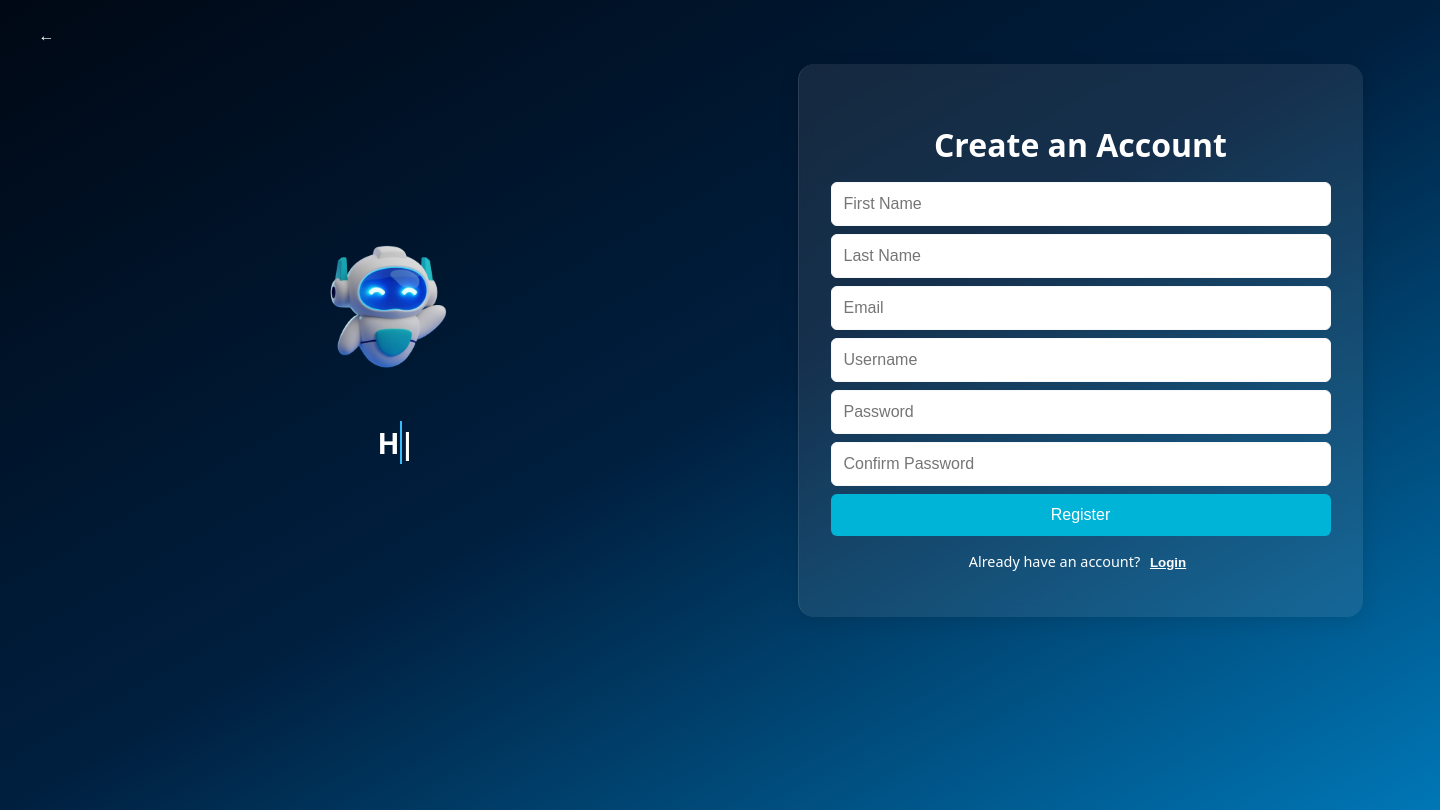
Test: RegisterPage › shows error if passwords do not match
Type "John" into the field with placeholder "First Name". click: (1080, 204)
box: [830,182,1330,226]
Type "Doe" into the field with placeholder "Last Name". click: (1080, 256)
box: [830,234,1330,278]
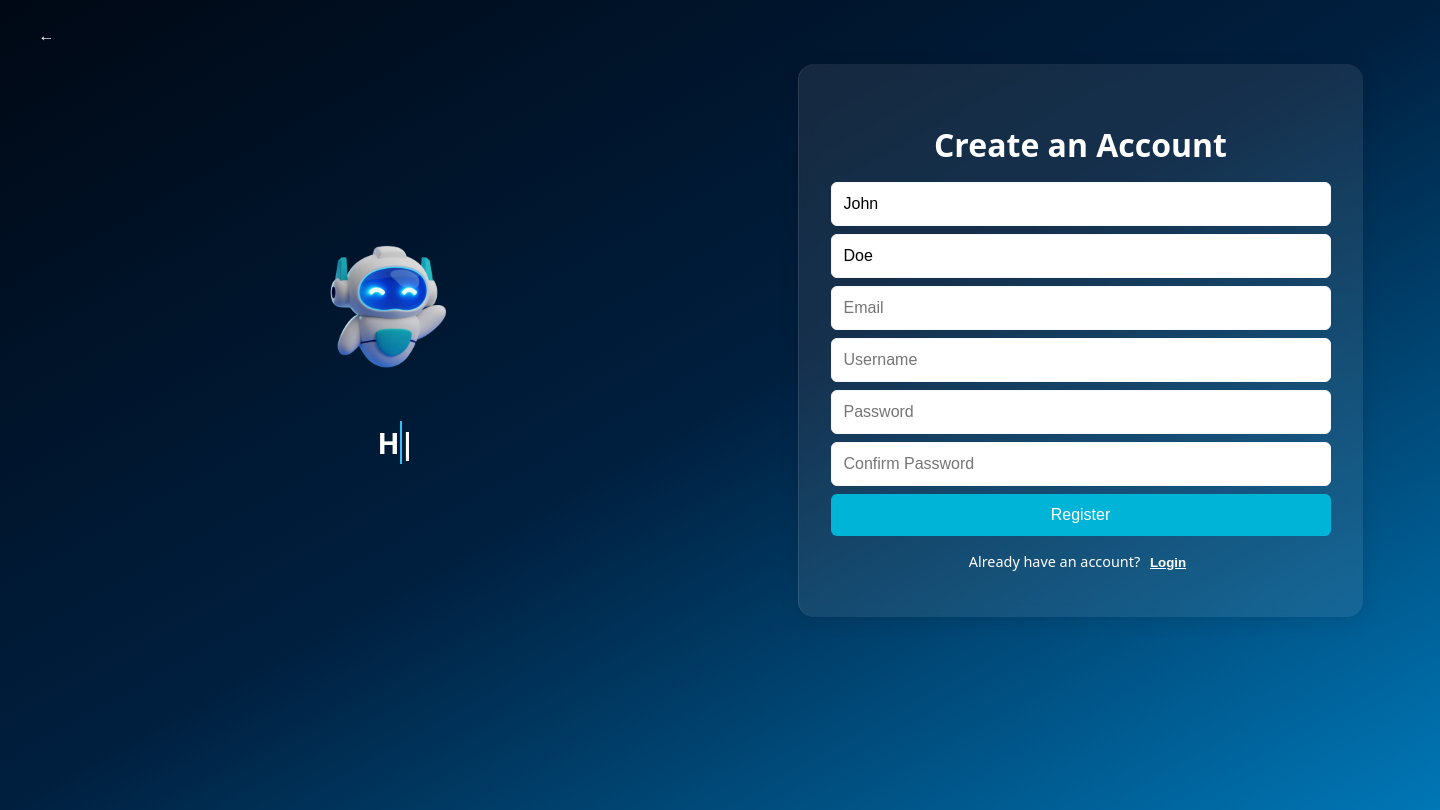
Type "john@example.com" into the field with placeholder "Email". click: (1080, 308)
box: [830,286,1330,330]
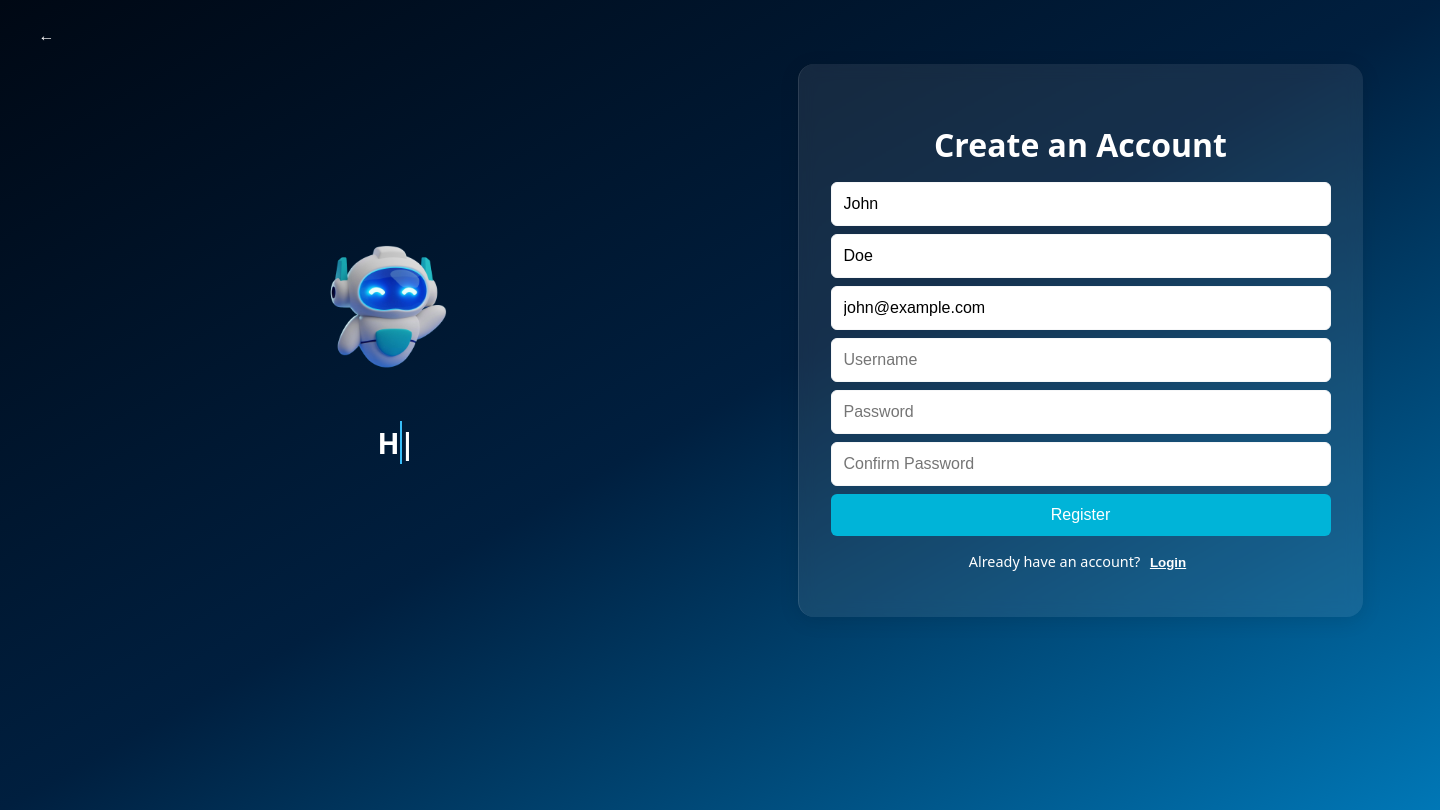
Type "johndoe" into the field with placeholder "Username". click: (1080, 360)
box: [830,338,1330,382]
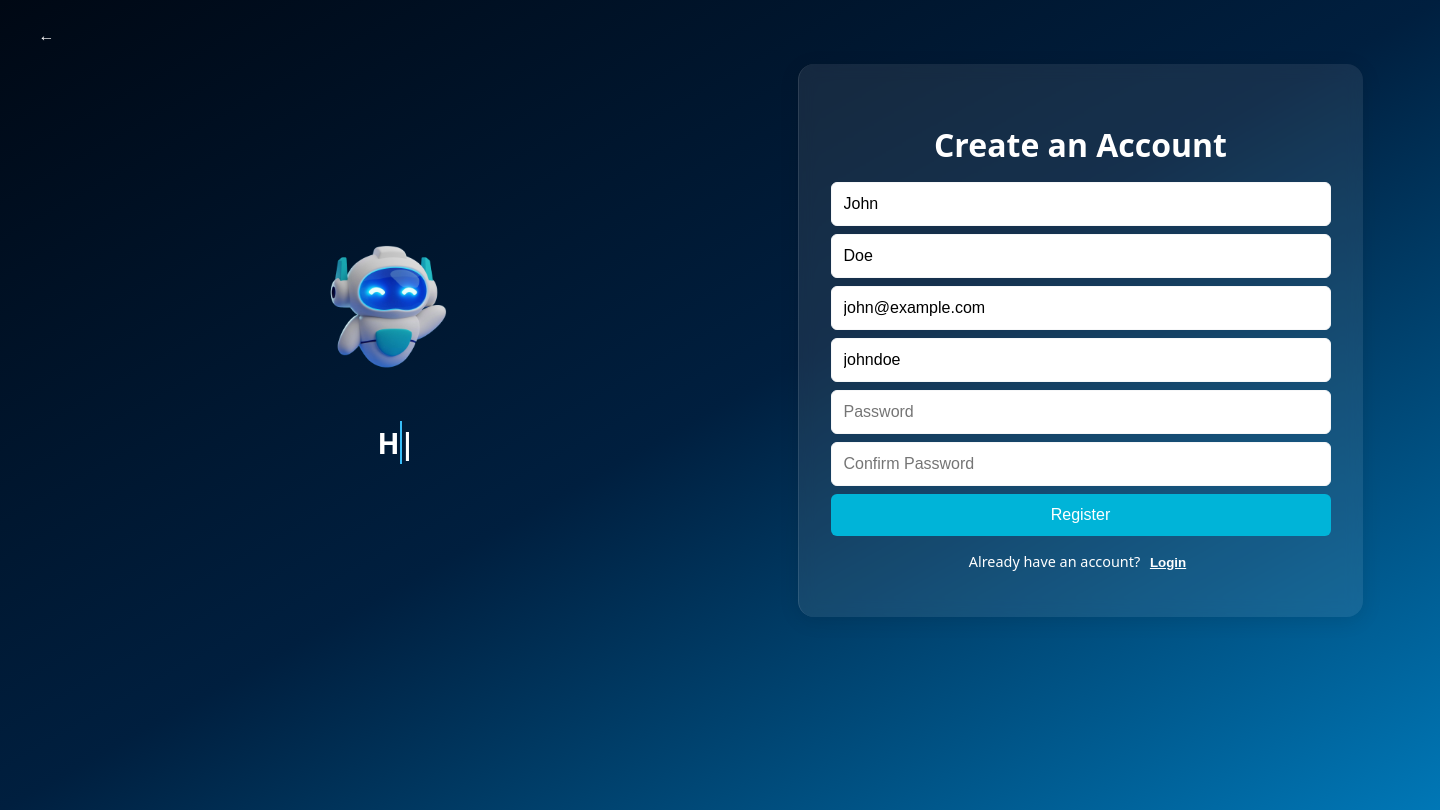
Type "password123" into the password field with placeholder "Password". click: (1080, 412)
box: [830,390,1330,434]
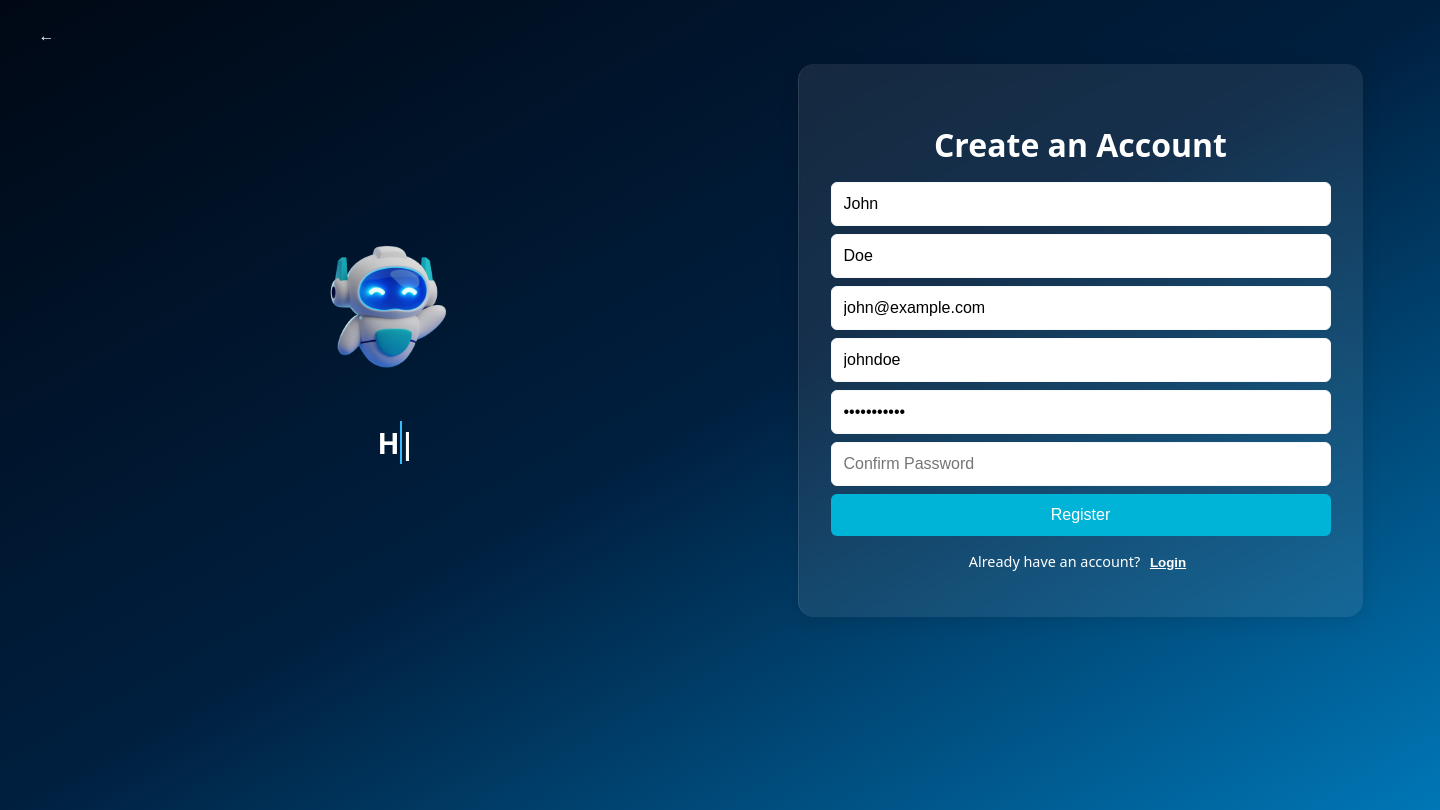
Type "notmatching" into the password field with placeholder "Confirm Password". click: (1080, 464)
box: [830,442,1330,486]
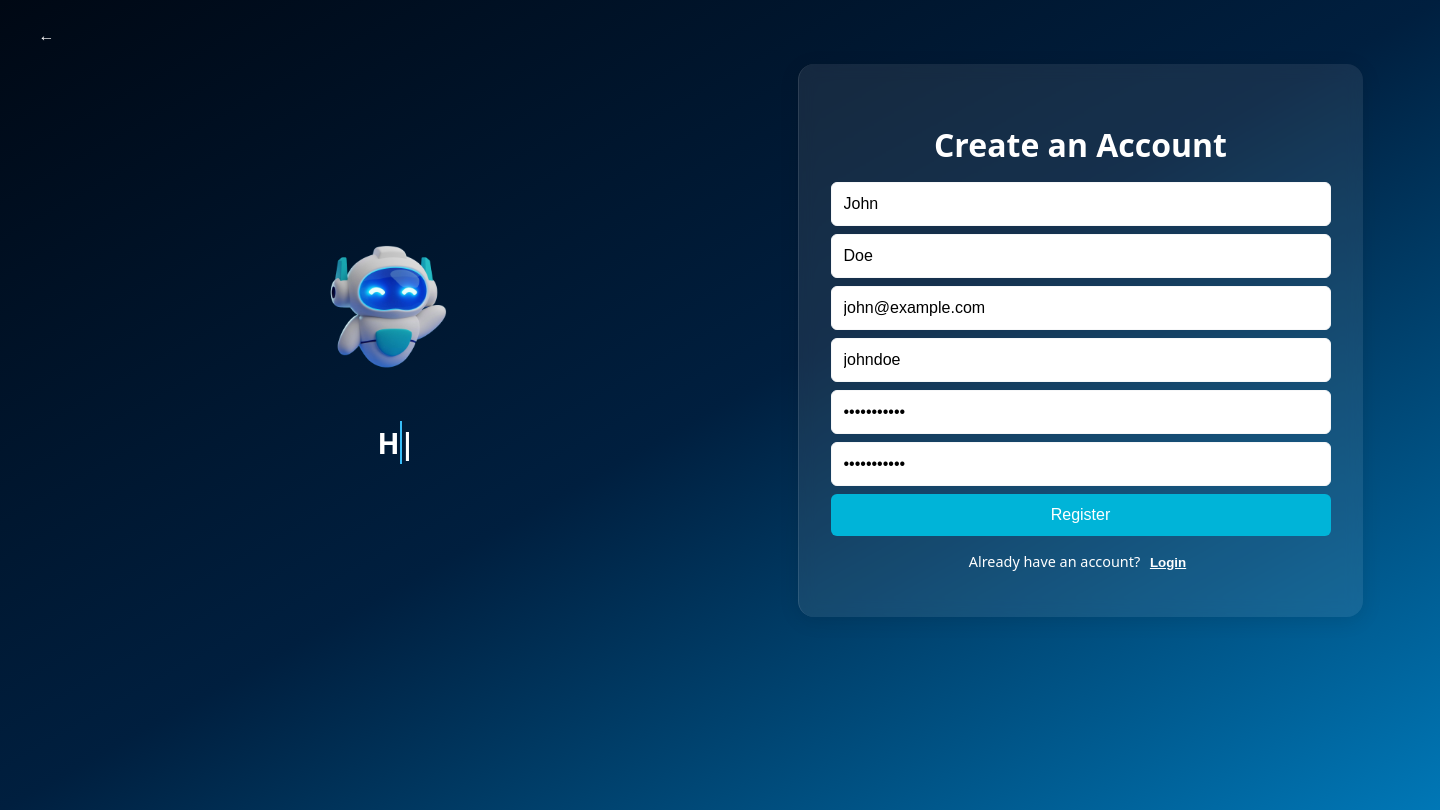
Click the button "Register". click: (1080, 514)
box: [830,494,1330,536]
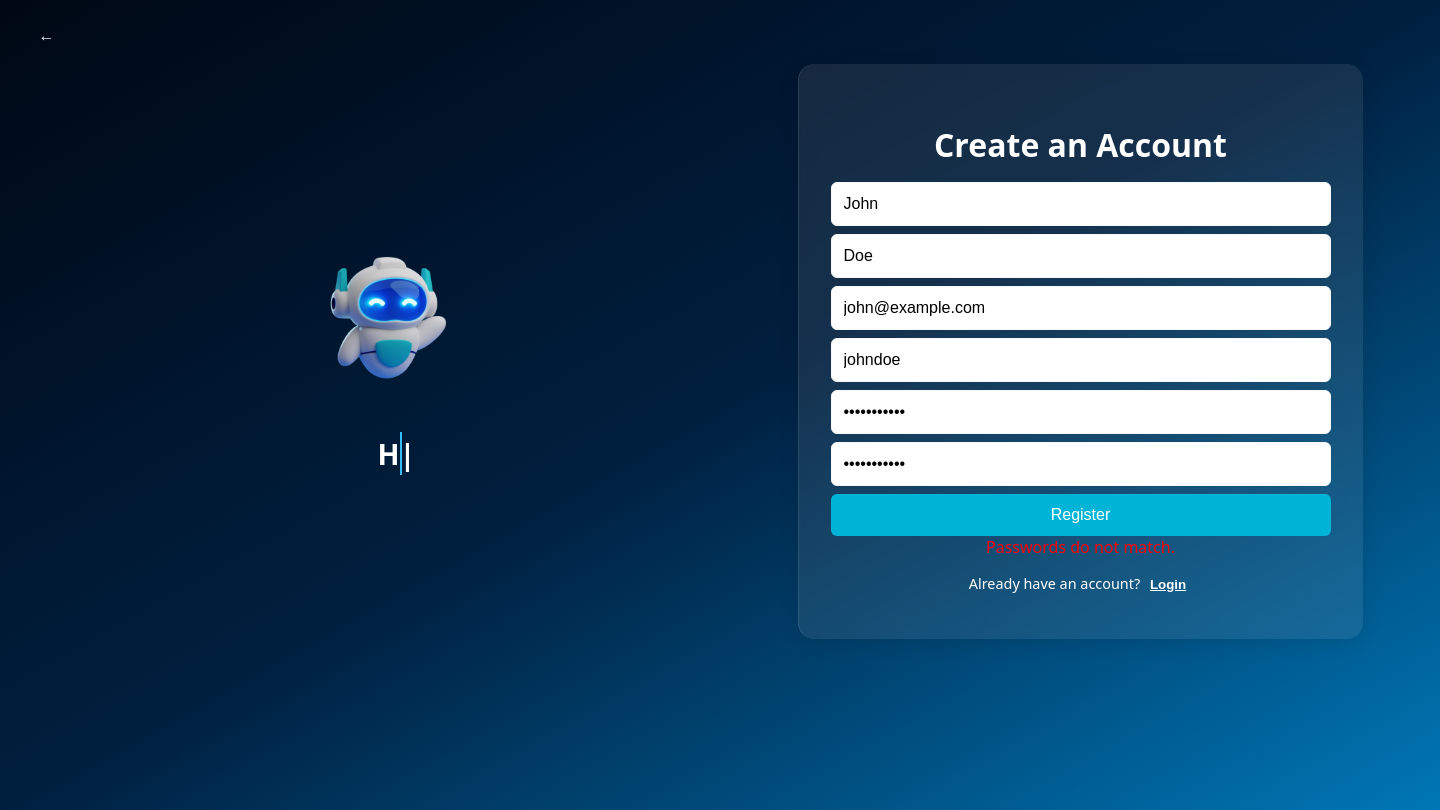
Expected: the text "Passwords do not match." is shown, [986,536,1175,558]
